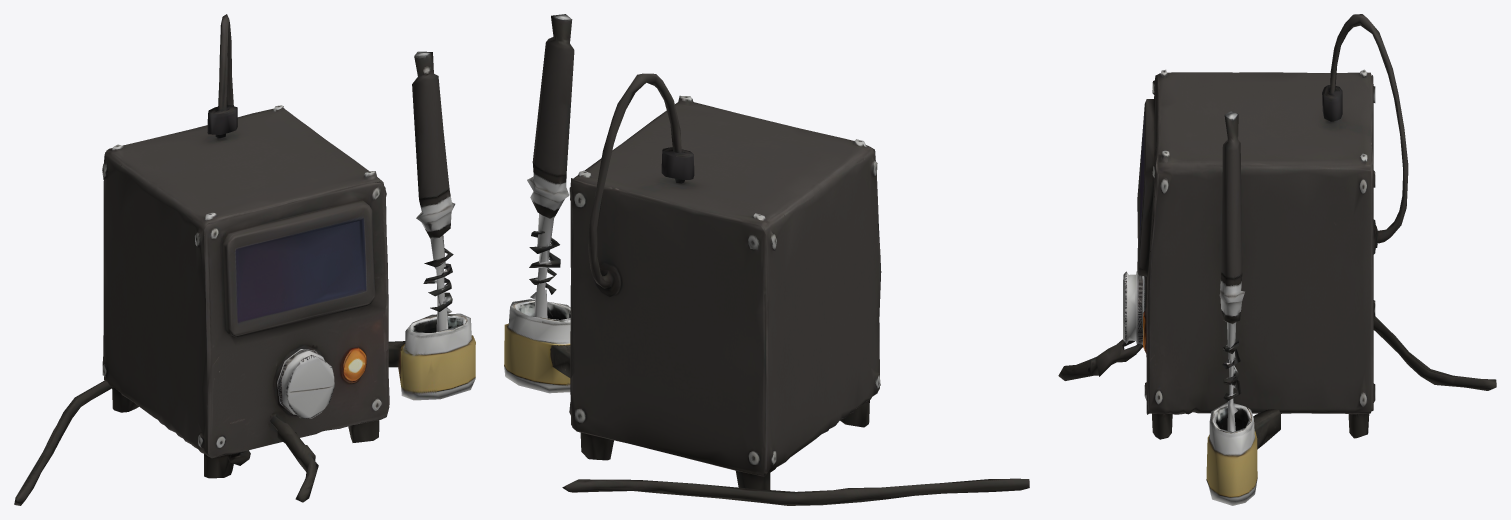
File: 17_soldering_station.glb
3 renders of one model, left to right at view 1: azimuth 30°, elevation 25°; view 2: azimuth 150°, elevation 25°; view 3: azimuth 270°, elevation 25°, orthographic. The views are drawn at different scales.
Visible parts, largest first — view 1: tripo_node_86e23643-ce8d-418b-bbec-64e1c813e73c; view 2: tripo_node_86e23643-ce8d-418b-bbec-64e1c813e73c; view 3: tripo_node_86e23643-ce8d-418b-bbec-64e1c813e73c.
Boxes of the visible parts, x1,y1,x2,y2 form: tripo_node_86e23643-ce8d-418b-bbec-64e1c813e73c: [14, 14, 475, 505]; tripo_node_86e23643-ce8d-418b-bbec-64e1c813e73c: [504, 14, 1029, 505]; tripo_node_86e23643-ce8d-418b-bbec-64e1c813e73c: [1058, 14, 1496, 505].
Bounding box in the file's own units: 0.24 × 0.18 × 0.18.
Materials: 1 (1 with a texture image).
